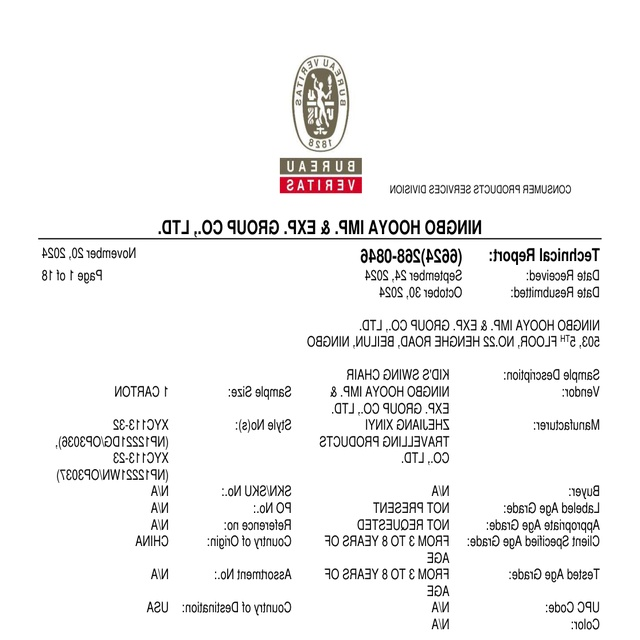bureau_veritas: (278, 54, 363, 195)
